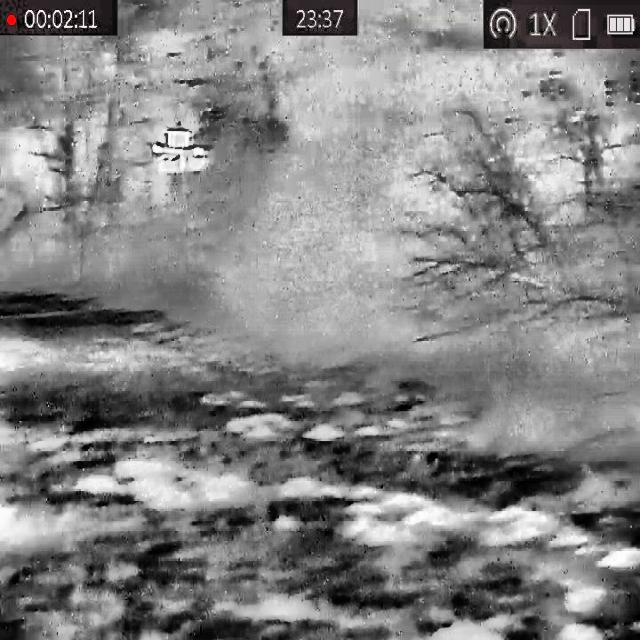drone: (152, 128, 211, 174)
